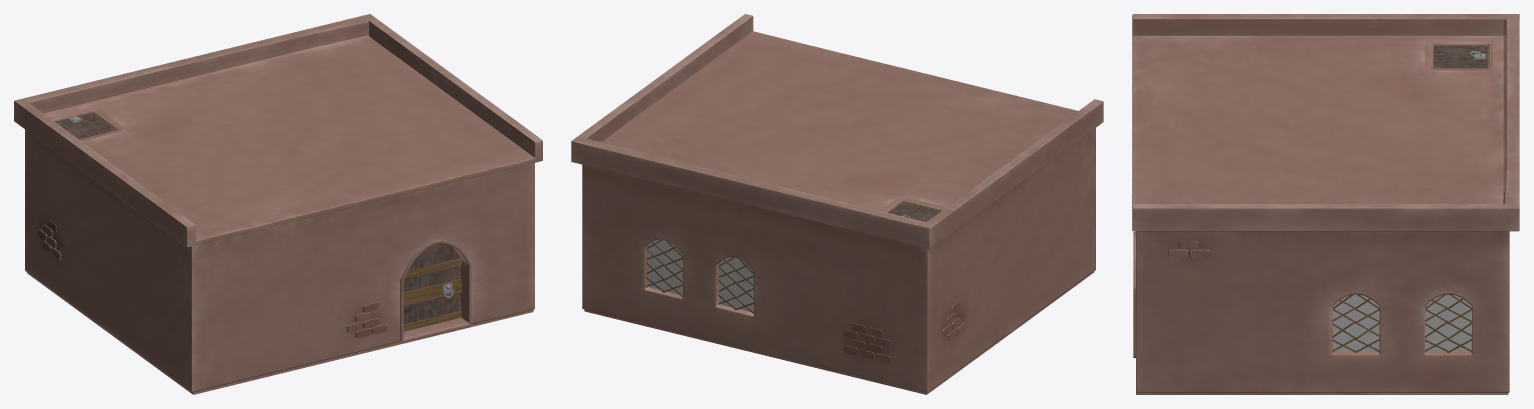
The picture shows the model from 3 angles, left to right: view 1: azimuth 30°, elevation 25°; view 2: azimuth 150°, elevation 25°; view 3: azimuth 270°, elevation 25°; orthographic projection. The views are drawn at different scales.
Parts seen in each view (by area): view 1: DecorativeHouse2, Tablas, Cube.005, Cube.003; view 2: DecorativeHouse2, Cube.020, rEJILLA.003, rEJILLA.004, Cube.003; view 3: DecorativeHouse2, rEJILLA.002, rEJILLA.001, Cube.001.
Part boxes in pixels (bbox=[...]): DecorativeHouse2: bbox=[14, 14, 542, 394]; Tablas: bbox=[403, 258, 462, 331]; Cube.005: bbox=[346, 302, 387, 338]; Cube.003: bbox=[37, 220, 61, 259]; DecorativeHouse2: bbox=[571, 14, 1103, 394]; Cube.020: bbox=[843, 323, 891, 363]; rEJILLA.003: bbox=[646, 240, 682, 296]; rEJILLA.004: bbox=[718, 257, 753, 313]; Cube.003: bbox=[942, 301, 966, 340]; DecorativeHouse2: bbox=[1132, 14, 1519, 394]; rEJILLA.002: bbox=[1332, 294, 1379, 353]; rEJILLA.001: bbox=[1425, 294, 1471, 353]; Cube.001: bbox=[1168, 240, 1209, 258].
Bounding box in the file's own units: 8.68 × 3.98 × 7.3.
2 materials, 2 textured.
